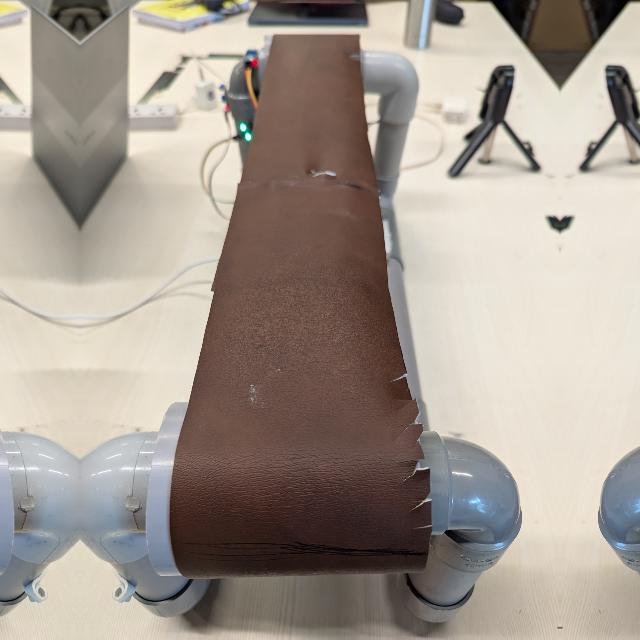edge_damage: (383, 362, 450, 538)
joint_damage: (292, 151, 354, 192)
